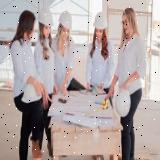Helmet: (114, 86, 131, 118), (21, 82, 43, 103), (36, 6, 54, 27), (92, 11, 109, 29), (58, 10, 72, 30)
